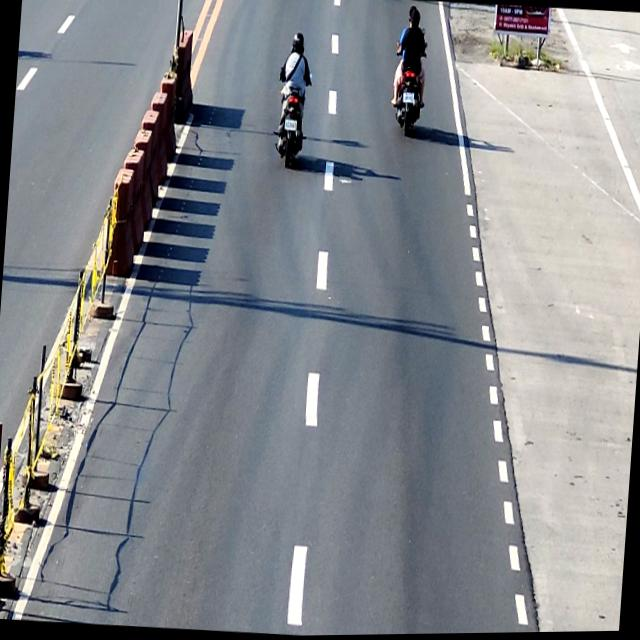License-Plate: (284, 120, 297, 132), (403, 93, 414, 103)
Motorcycle: (272, 66, 312, 169), (389, 37, 428, 139)
